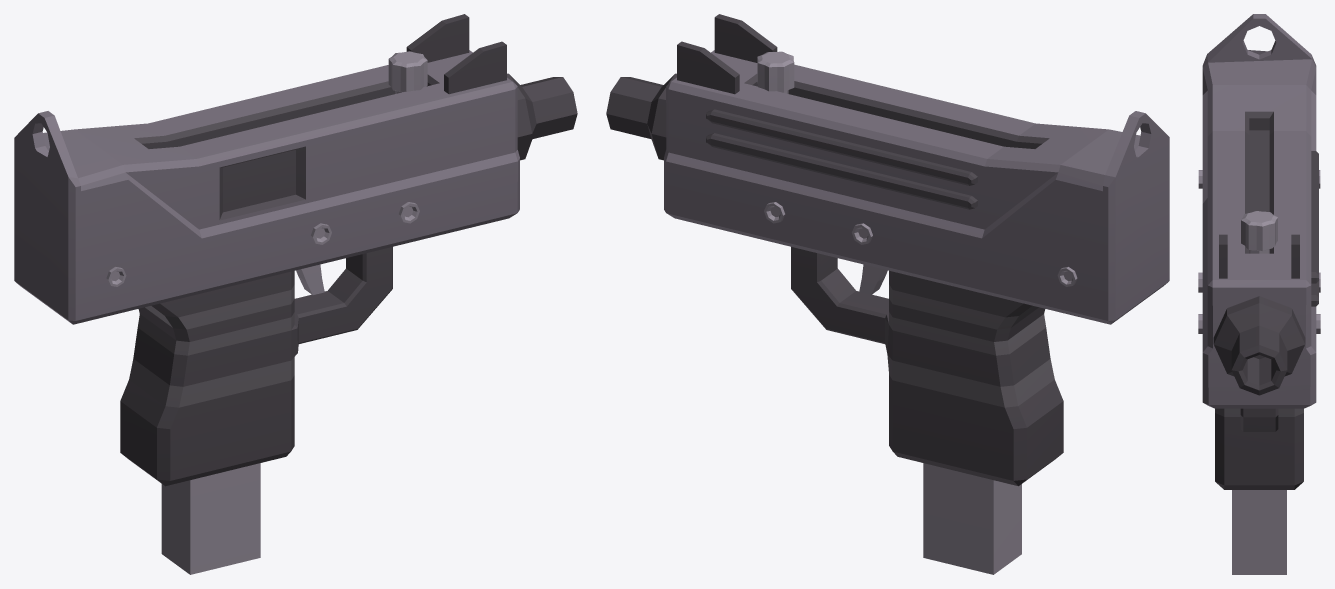
Rendered from Uzi.fbx.
The picture shows the model from 3 angles, left to right: view 1: azimuth 30°, elevation 25°; view 2: azimuth 150°, elevation 25°; view 3: azimuth 270°, elevation 25°; orthographic projection. The views are drawn at different scales.
Visible parts, largest first — view 1: Uzi; view 2: Uzi; view 3: Uzi.
Boxes of the visible parts, x1,y1,x2,y2 form: Uzi: (14,14,577,574); Uzi: (606,14,1169,574); Uzi: (1198,14,1320,574).
Size of the model in its own units: 0.00718 by 0.0063 by 0.0015.
Materials: 1 (1 with a texture image).
